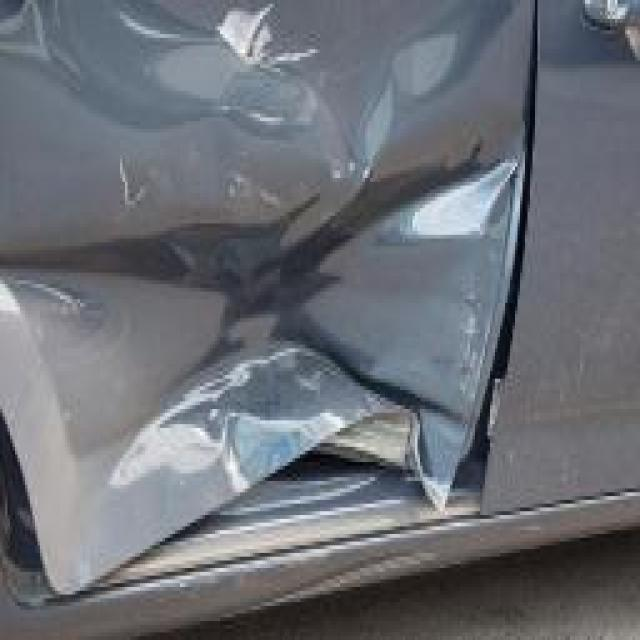Door: (2, 0, 502, 523)
